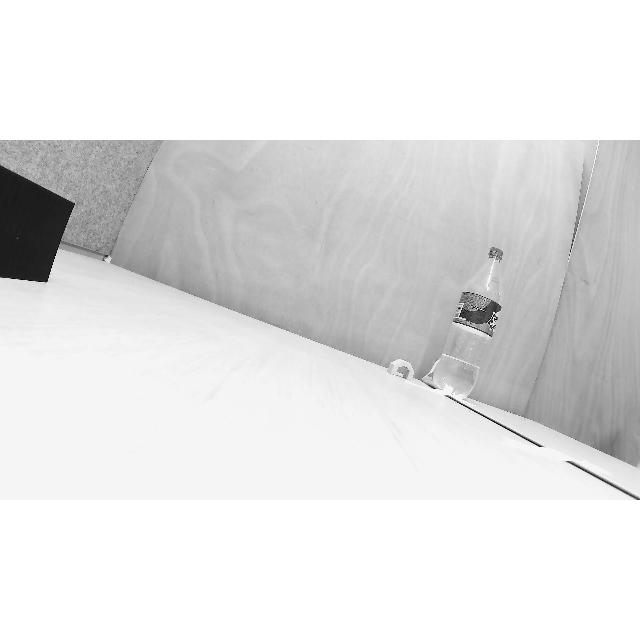targets: (436, 243, 508, 397), (0, 161, 76, 285), (385, 354, 417, 386)
